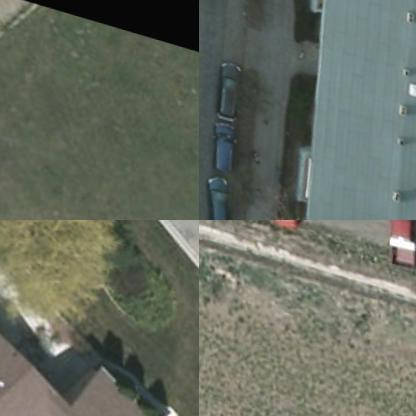car: (202, 58, 242, 117), (199, 114, 236, 176), (199, 168, 234, 219)
pickup: (372, 220, 415, 268)
